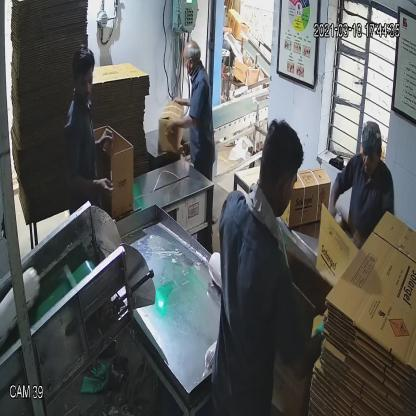no_glove: (160, 107, 209, 148), (64, 165, 118, 201), (323, 169, 345, 232), (90, 126, 119, 162)
